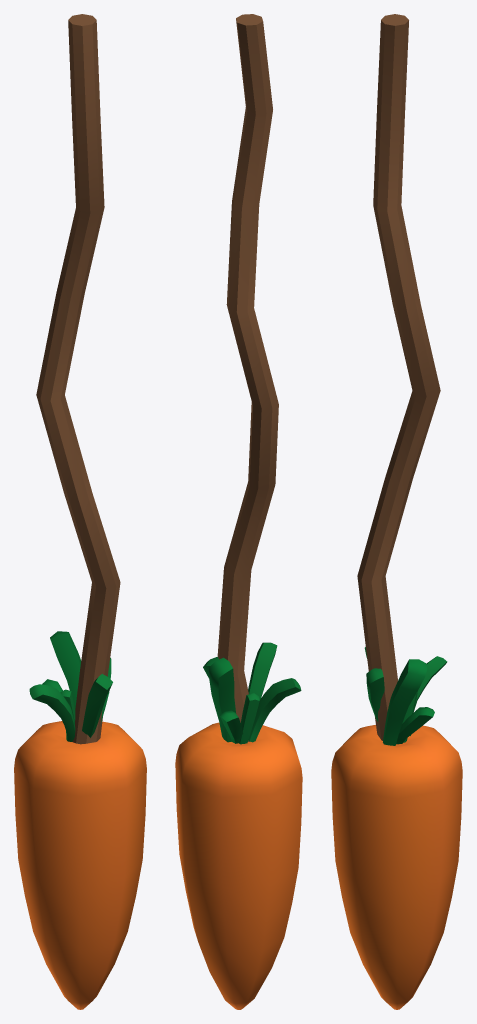
The model's file is stick.fbx.
The picture shows the model from 3 angles, left to right: view 1: azimuth 90°, elevation 25°; view 2: azimuth 210°, elevation 25°; view 3: azimuth 270°, elevation 25°; orthographic projection.
Visible parts, largest first — view 1: Carrot1; view 2: Carrot1; view 3: Carrot1.
Boxes of the visible parts, x1,y1,x2,y2 form: Carrot1: (14,14,146,1009); Carrot1: (175,14,302,1009); Carrot1: (331,14,462,1009).
Bounding box in the file's own units: 1.46 × 12.03 × 1.46.
